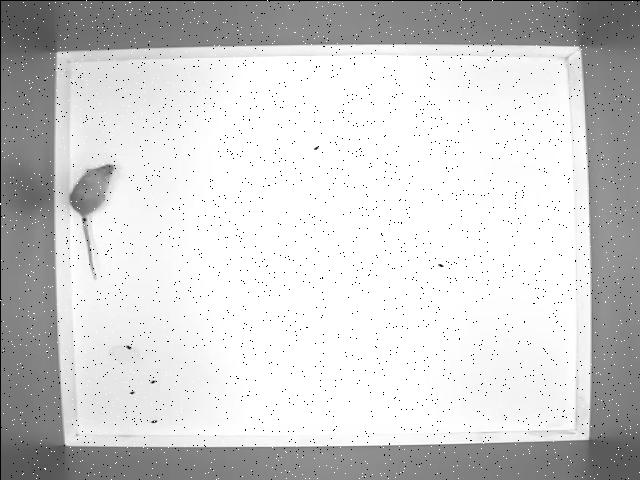Tikus: (50, 154, 116, 282)
